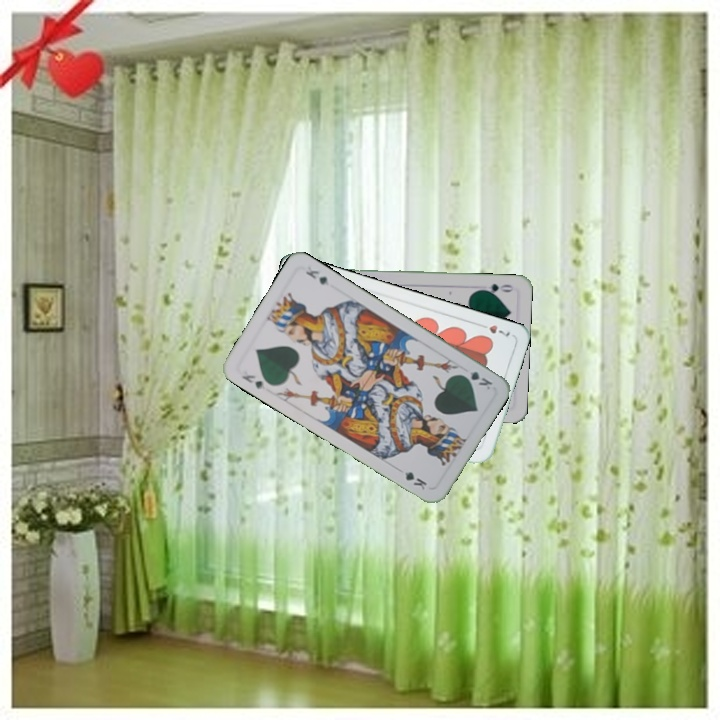GK: (456, 366, 495, 393), (238, 371, 269, 391)
GO: (475, 279, 515, 297)
H7: (475, 320, 513, 341)
